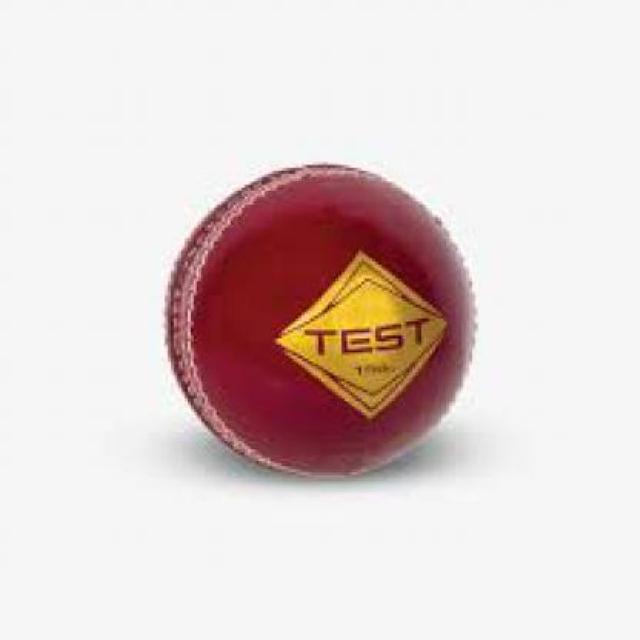ball: (159, 129, 496, 486)
